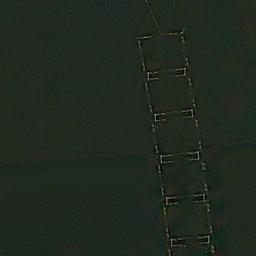square_locked: (135, 29, 192, 74), (143, 73, 199, 116), (150, 116, 206, 158), (156, 159, 211, 201), (162, 202, 215, 239)
